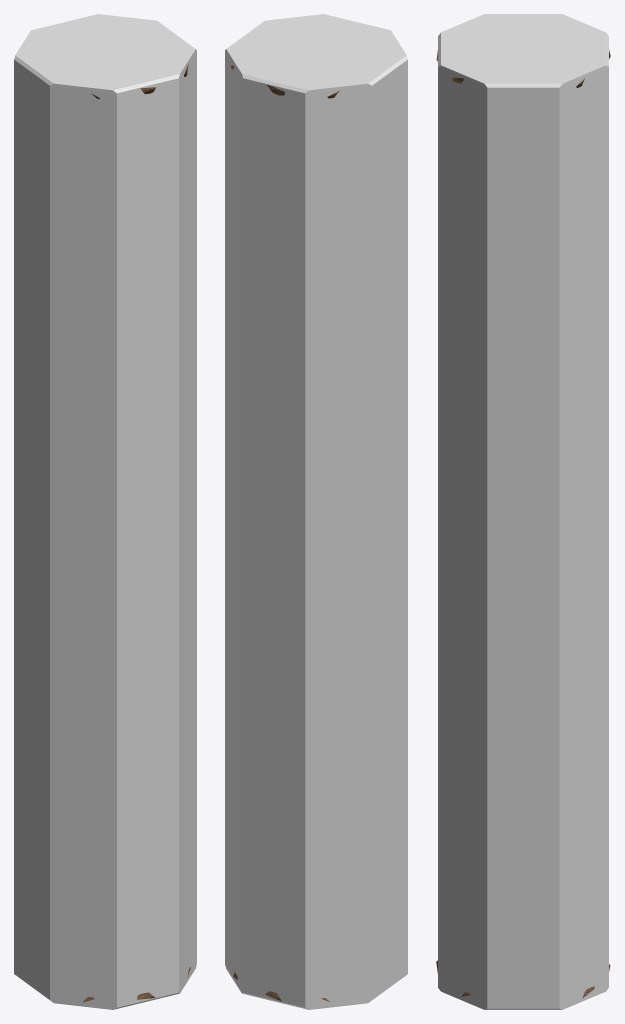
File: SM_column_01.fbx
3 renders of one model, left to right at view 1: azimuth 30°, elevation 25°; view 2: azimuth 150°, elevation 25°; view 3: azimuth 270°, elevation 25°, orthographic.
Visible parts, largest first — view 1: SM_column_01_ConvexHulls; view 2: SM_column_01_ConvexHulls; view 3: SM_column_01_ConvexHulls.
Part boxes in pixels (left/top/right/bottom): SM_column_01_ConvexHulls: left=14, top=14, right=196, bottom=1009; SM_column_01_ConvexHulls: left=225, top=14, right=407, bottom=1009; SM_column_01_ConvexHulls: left=438, top=14, right=608, bottom=1009.
Bounding box in the file's own units: 142 × 145 × 850.
